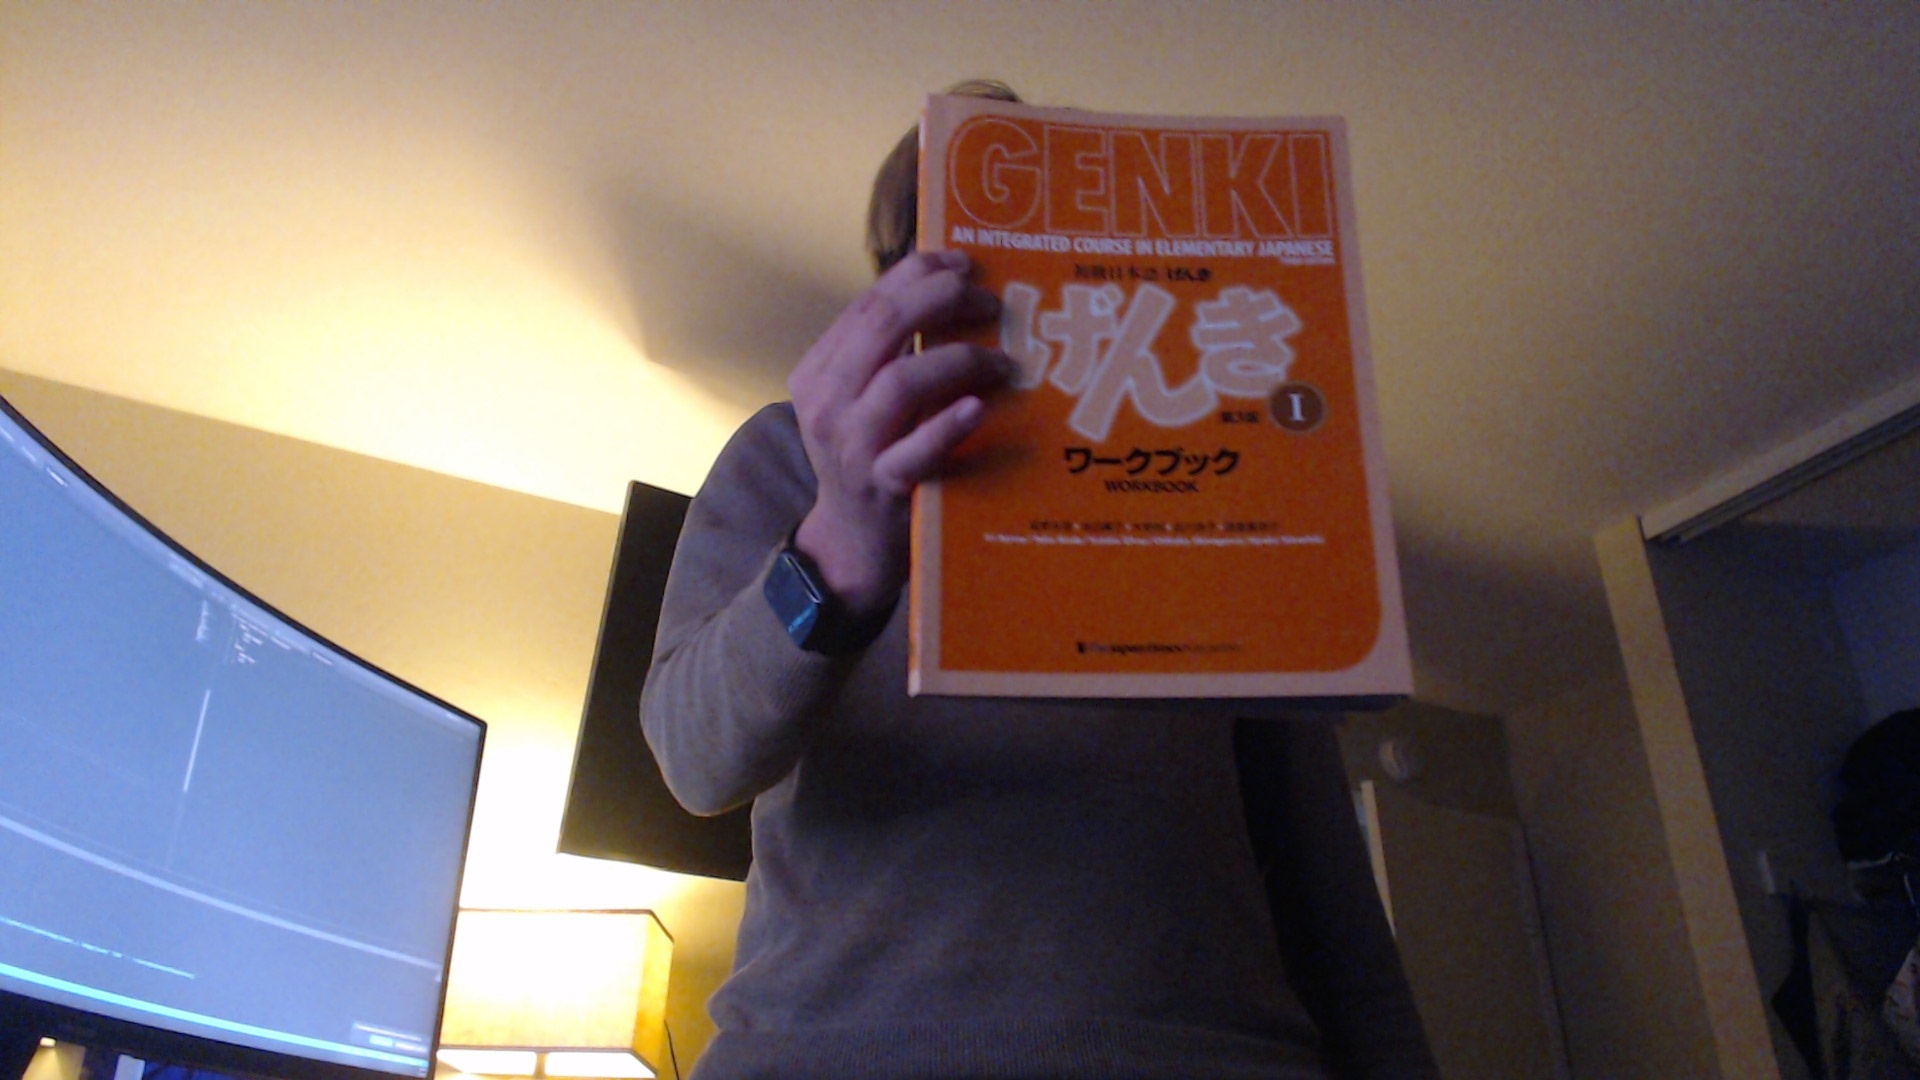book: (909, 86, 1412, 716)
